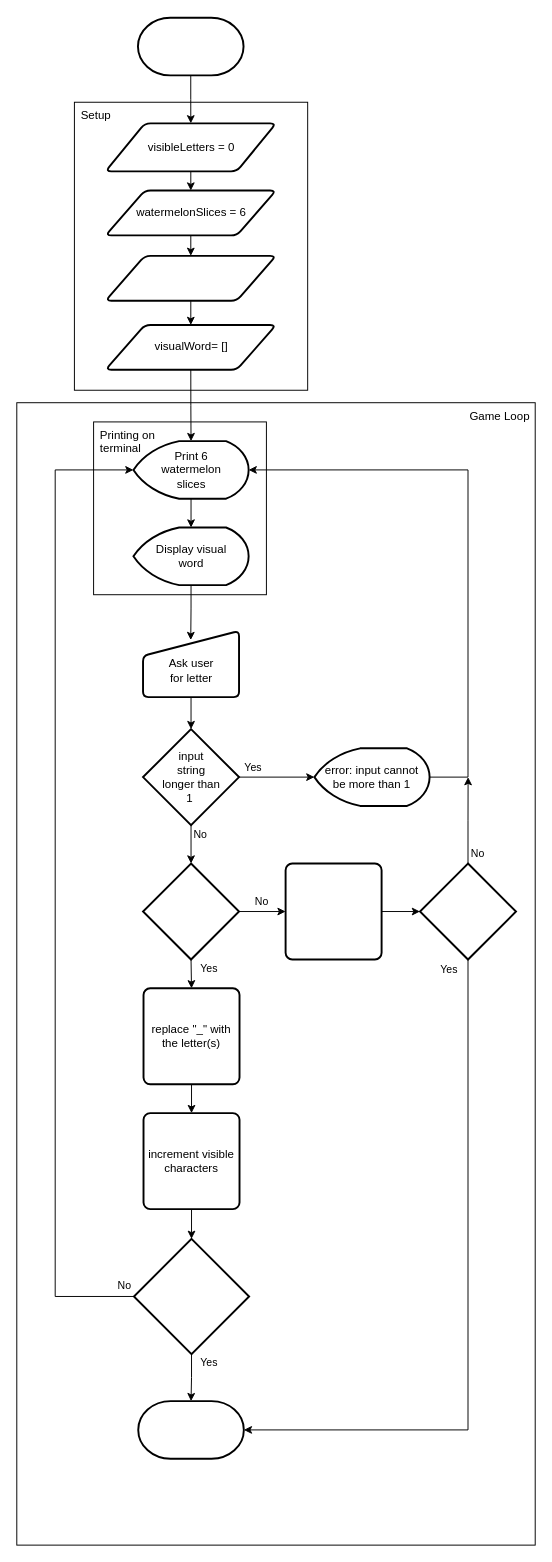
Some shapes in this 552 by 1562 pixel diagram are drawn without their labels. Here are the shapes that lost their labels. From the top down, the centre of each, then its label:
point (190, 46): Start of Game (Game stopped)
point (190, 277): word = getWord()
point (191, 911): word has letter
point (333, 911): decrement watermelon slice count
point (467, 911): watermelon slices = 0
point (191, 1296): visible letter count same as length of word
point (190, 1429): End of Game (Game stopped)
